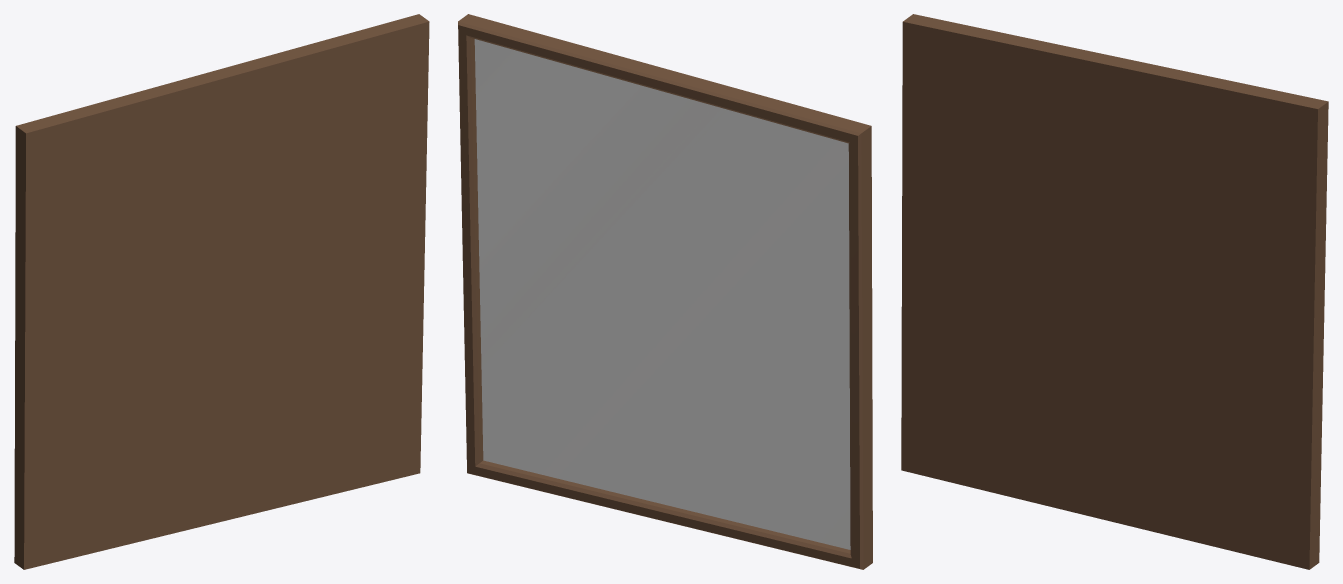
Rendered from Mirror.fbx.
The picture shows the model from 3 angles, left to right: view 1: azimuth 30°, elevation 25°; view 2: azimuth 150°, elevation 25°; view 3: azimuth 330°, elevation 25°; orthographic projection. The views are drawn at different scales.
Parts seen in each view (by area): view 1: Mirror; view 2: Mirror; view 3: Mirror.
Part boxes in pixels (x1,y1,x2,y2): Mirror: (14,14,429,569); Mirror: (458,14,872,569); Mirror: (901,14,1328,569).
Bounding box in the file's own units: 75.33 × 79.95 × 3.8.
1 material, 1 textured.
